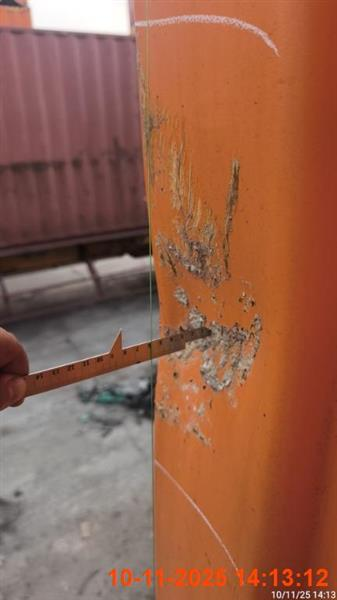bent: (0, 326, 30, 411)
